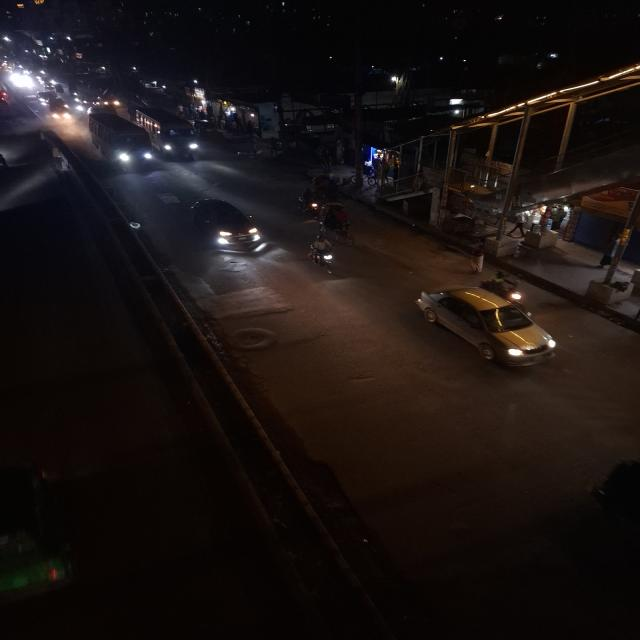bus: (86, 111, 155, 173), (139, 107, 203, 161)
car: (407, 283, 566, 372), (184, 194, 270, 256)
cng: (0, 448, 85, 608)
motorcycle: (480, 270, 529, 306), (305, 234, 340, 276), (296, 187, 321, 216)
pedestrian: (464, 240, 492, 274)
rickshaw: (318, 202, 361, 244)
